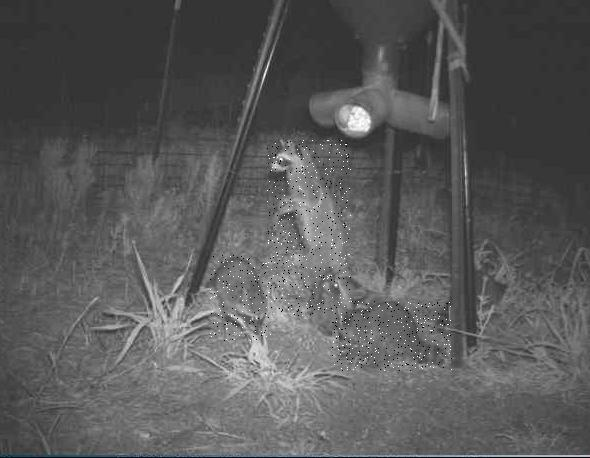Raccoon: (268, 141, 352, 317), (333, 301, 453, 371), (210, 255, 272, 341)
